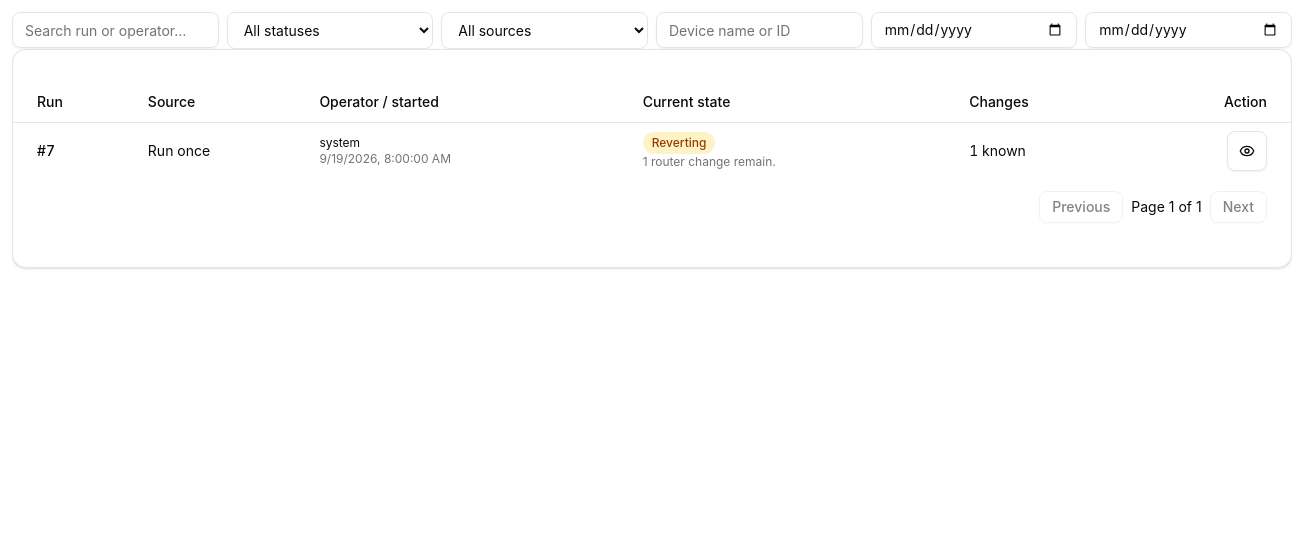
clears old child evidence when the parent switches recovery IDs and the new child is unavailable
Click the button named "Review run 7".
click(1247, 150)  # box [1227,130,1267,170]
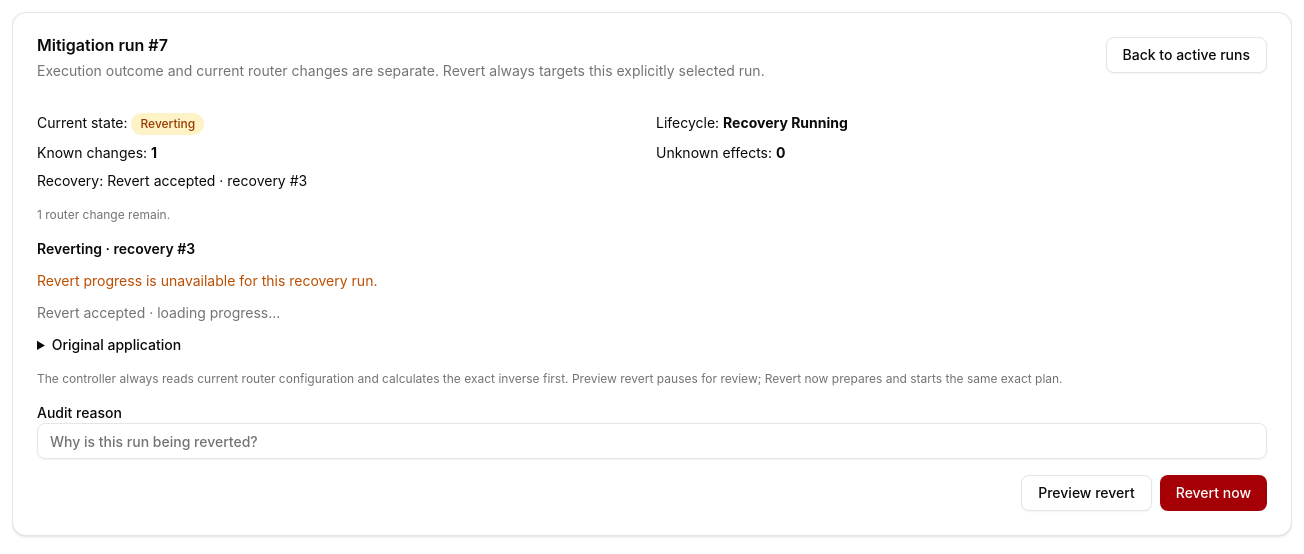
Expected: the text "Revert progress is unavailable for this recovery run." is shown, [37,272,377,289]
Expected: the text "Recovery: Revert accepted · recovery #3" is shown, [37,172,307,189]
